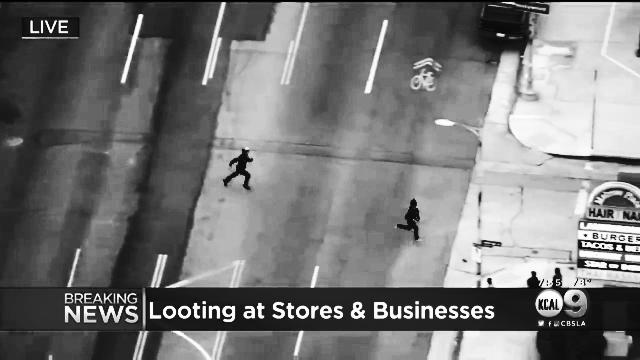berlari: (218, 138, 260, 192), (398, 196, 422, 242)
